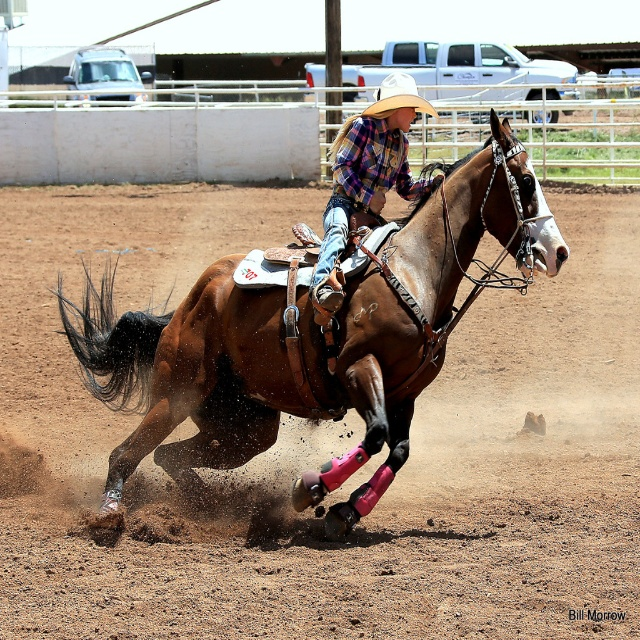Horse: (45, 108, 570, 547)
